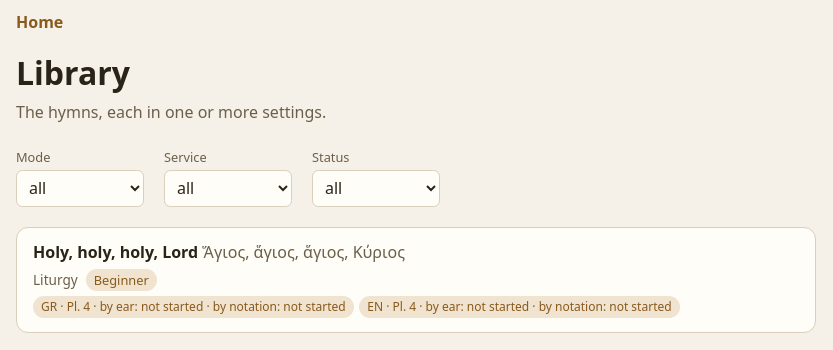
Test case: Library › lists Holy Holy Holy and filters by mode, service and status
This screenshot has width=833, height=350.
Expected: the link "Holy, holy, holy" is shown, [16,227,816,333]
Select "Pl. 4" in the dropdown labelled "Mode" at (80,188), box [16,170,144,207]
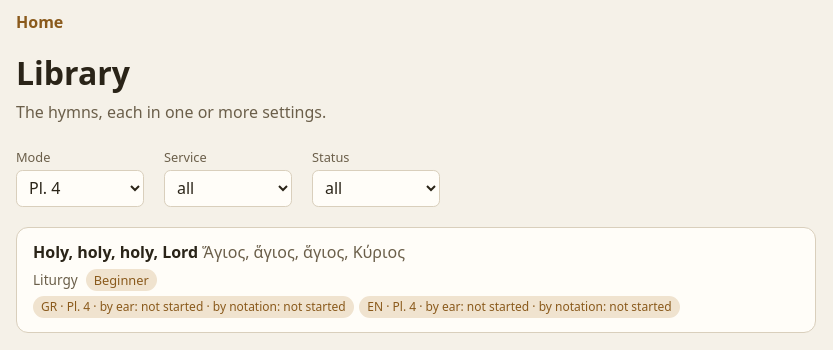
Select "Liturgy" in the dropdown labelled "Service" at (228,188), box [164,170,292,207]
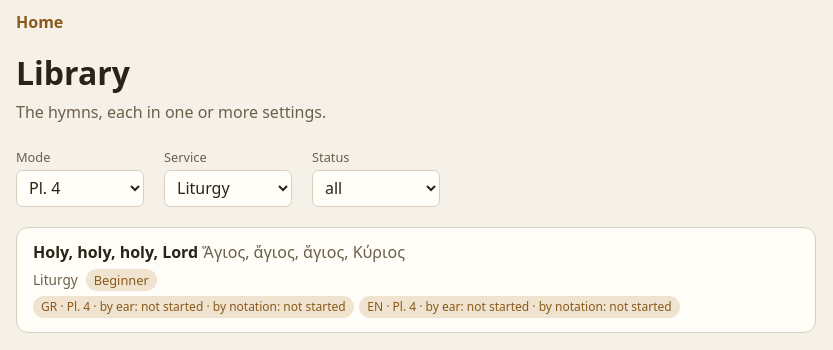
Select "not started" in the dropdown labelled "Status" at (376,188), box [312,170,440,207]
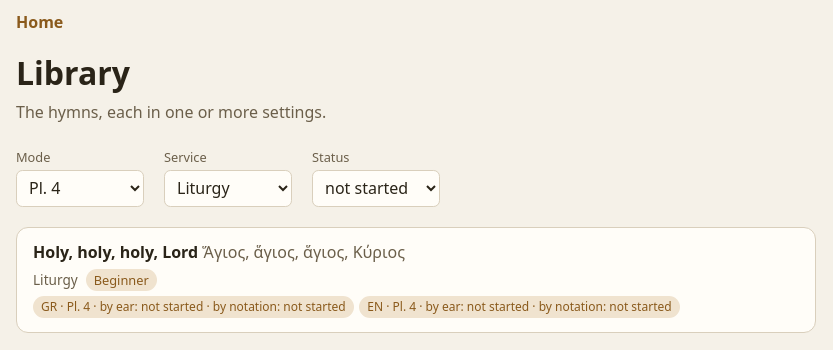
Expected: the link "Holy, holy, holy" is shown, [16,227,816,333]
Select "declared" in the dropdown labelled "Status" at (376,188), box [312,170,440,207]
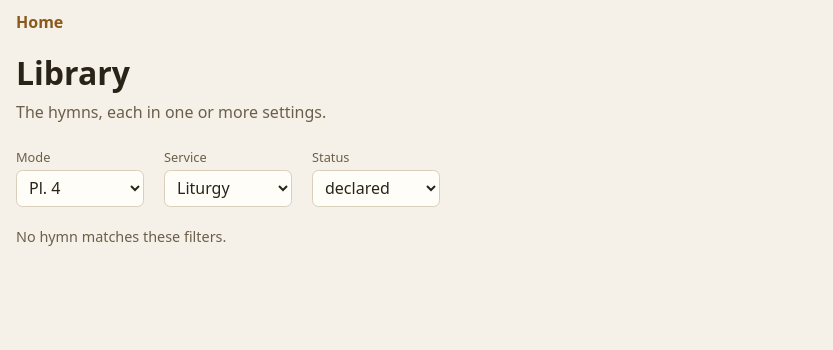
Result: the link "Holy, holy, holy" is gone
Result: the text "No hymn matches these filters." is shown at [16,227,226,246]
